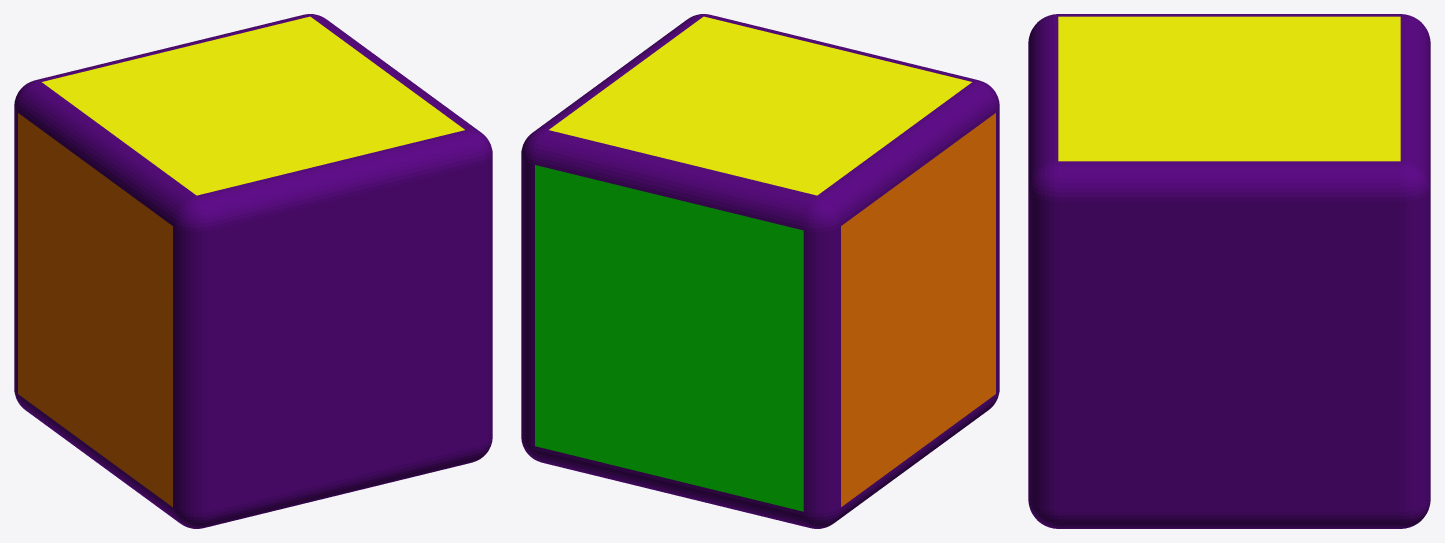
The picture shows the model from 3 angles, left to right: view 1: azimuth 30°, elevation 25°; view 2: azimuth 150°, elevation 25°; view 3: azimuth 270°, elevation 25°; orthographic projection. The views are drawn at different scales.
Visible parts, largest first — view 1: Cube.021; view 2: Cube.021; view 3: Cube.021.
Boxes of the visible parts, x1,y1,x2,y2 form: Cube.021: (14,14,492,528); Cube.021: (521,14,999,528); Cube.021: (1028,14,1430,528).
Size of the model in its own units: 200 by 200 by 200.
